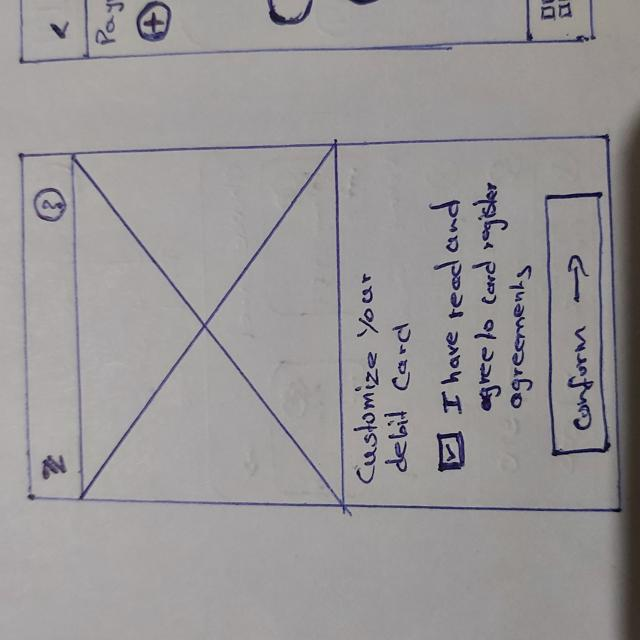ActionButton: (20, 183, 75, 238)
AppBar: (17, 151, 85, 500)
Button: (544, 190, 612, 457)
CheckBox: (431, 429, 468, 475)
Icon: (31, 188, 66, 224), (567, 251, 586, 307), (38, 451, 69, 483)
Image: (72, 153, 346, 508)
MainLayout: (16, 134, 624, 515)
TextView: (430, 178, 539, 417), (354, 271, 380, 485), (387, 320, 414, 478)
